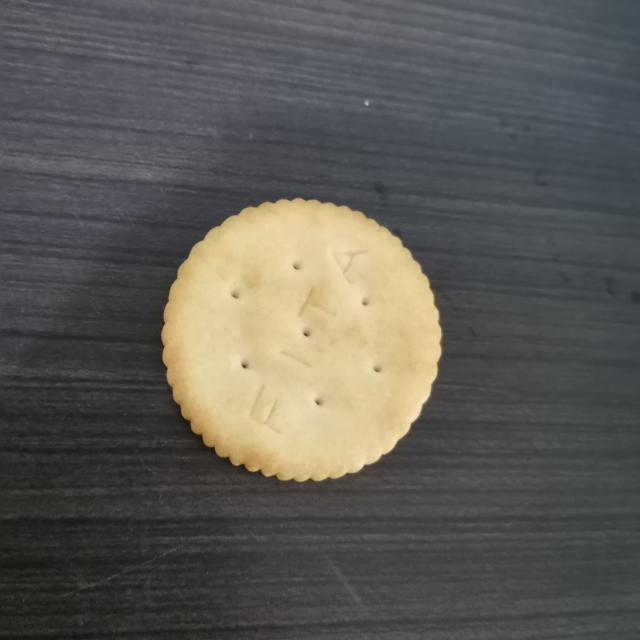Intact: (154, 183, 453, 493)
